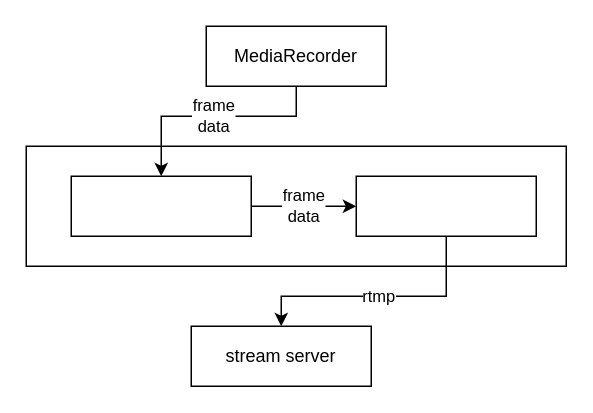
Image size: 593x413. Some labels were removed from this diagram. The shapes that lost their labels are listed below. From the top down, each one's box as (x1, y1, x2, y2) in pixels, then its label:
(70, 175, 251, 236): Web-socket server
(355, 175, 536, 236): ffmpeg
